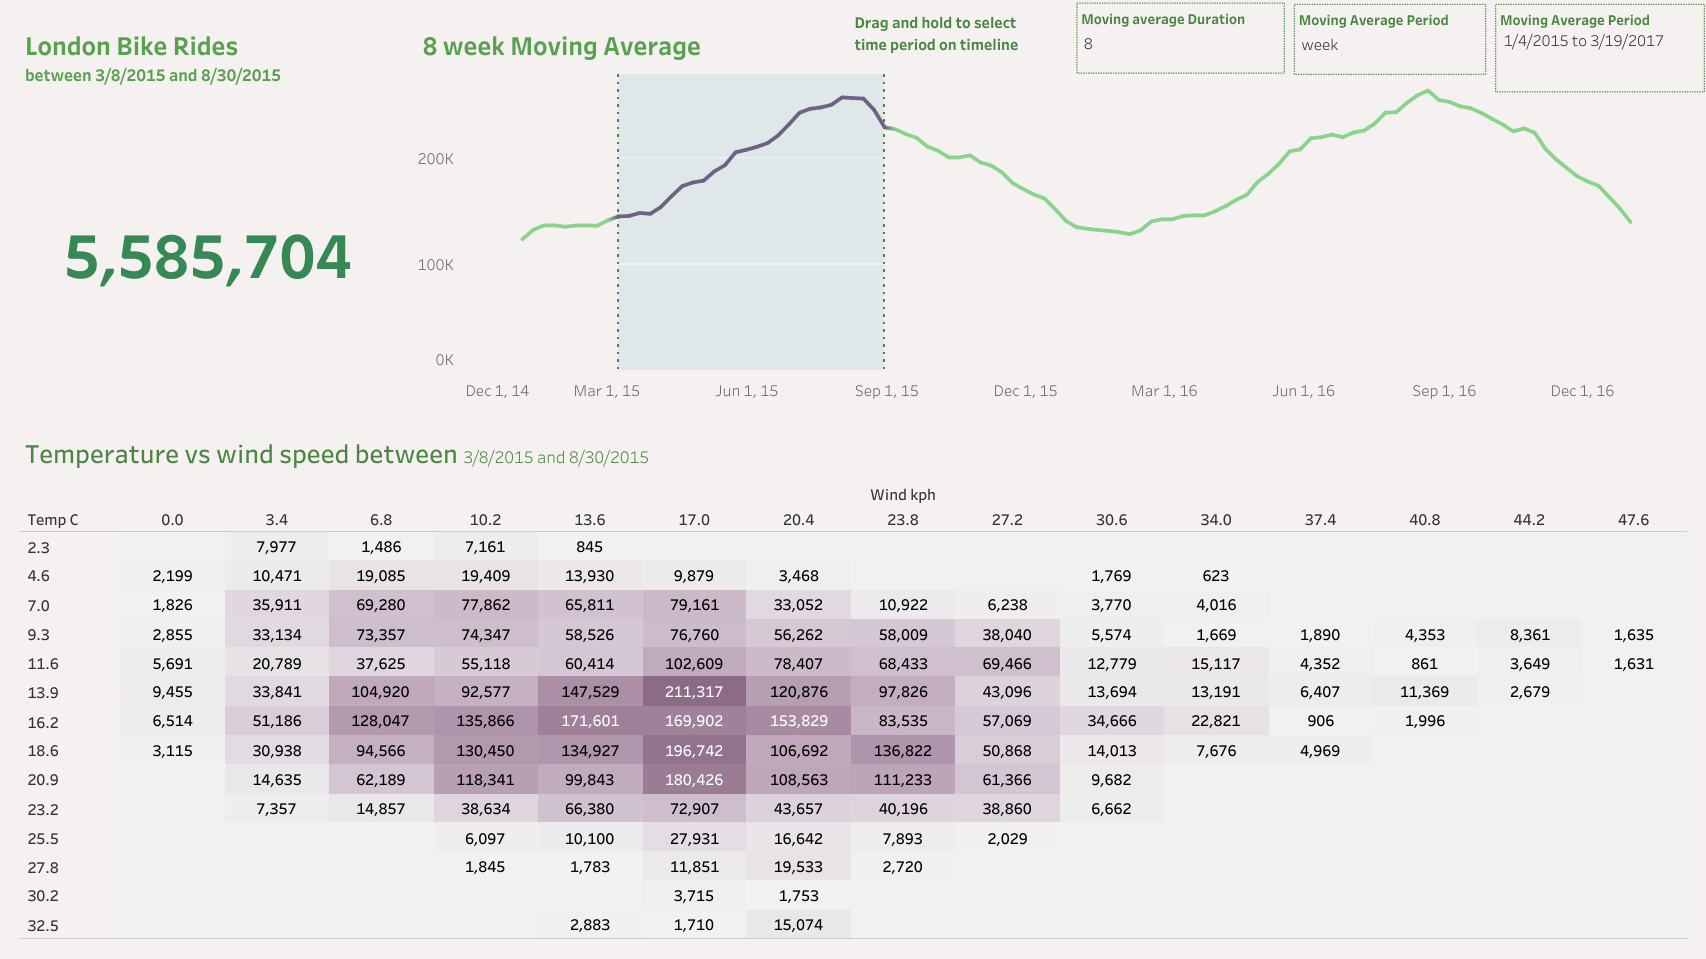

The page's visual inventory and layout, read from the dashboard file:
{"tool":"tableau","page":{"name":"Dashboard 1","canvas":[1366,768],"ordinal":0},"visuals":[{"type":"parameter","param":"[Parameters].[Parameter 2]","box":[861,2,167,57]},{"type":"parameter","param":"[Parameters].[Parameter 1]","box":[1035,3,154,57]},{"type":"filter","title":"Moving Average","param":"[federated.0jyeqtu1bf3tc816ftqmd0vkkic5].[none:Calculation_774337705078910979:qk","box":[1196,3,168,71]},{"type":"text","box":[681,5,171,42]},{"type":"worksheet","title":"total Rides","mark":"Automatic","box":[8,8,318,326]},{"type":"worksheet","title":"Moving Average","mark":"Automatic","rows":["Calculation1"],"cols":["Calculation_774337705078910979"],"box":[326,8,1032,326]},{"type":"worksheet","title":"Heatmap","mark":"Square","rows":["temp real C (bin)"],"cols":["Wind Speed Kph (bin)"],"box":[8,334,1350,426]}]}

Visuals, with their boxes in screenshot pixels (x1, y1, x2, y2), scaled from the page's 1366x768 canvas onto the 1706x959 screenshot:
parameter: (1075,2,1284,74)
parameter: (1293,4,1485,75)
"Moving Average" filter: (1494,4,1704,92)
text: (851,6,1064,59)
"total Rides" worksheet: (10,10,407,417)
"Moving Average" worksheet: (407,10,1696,417)
"Heatmap" worksheet (Square marks): (10,417,1696,949)
